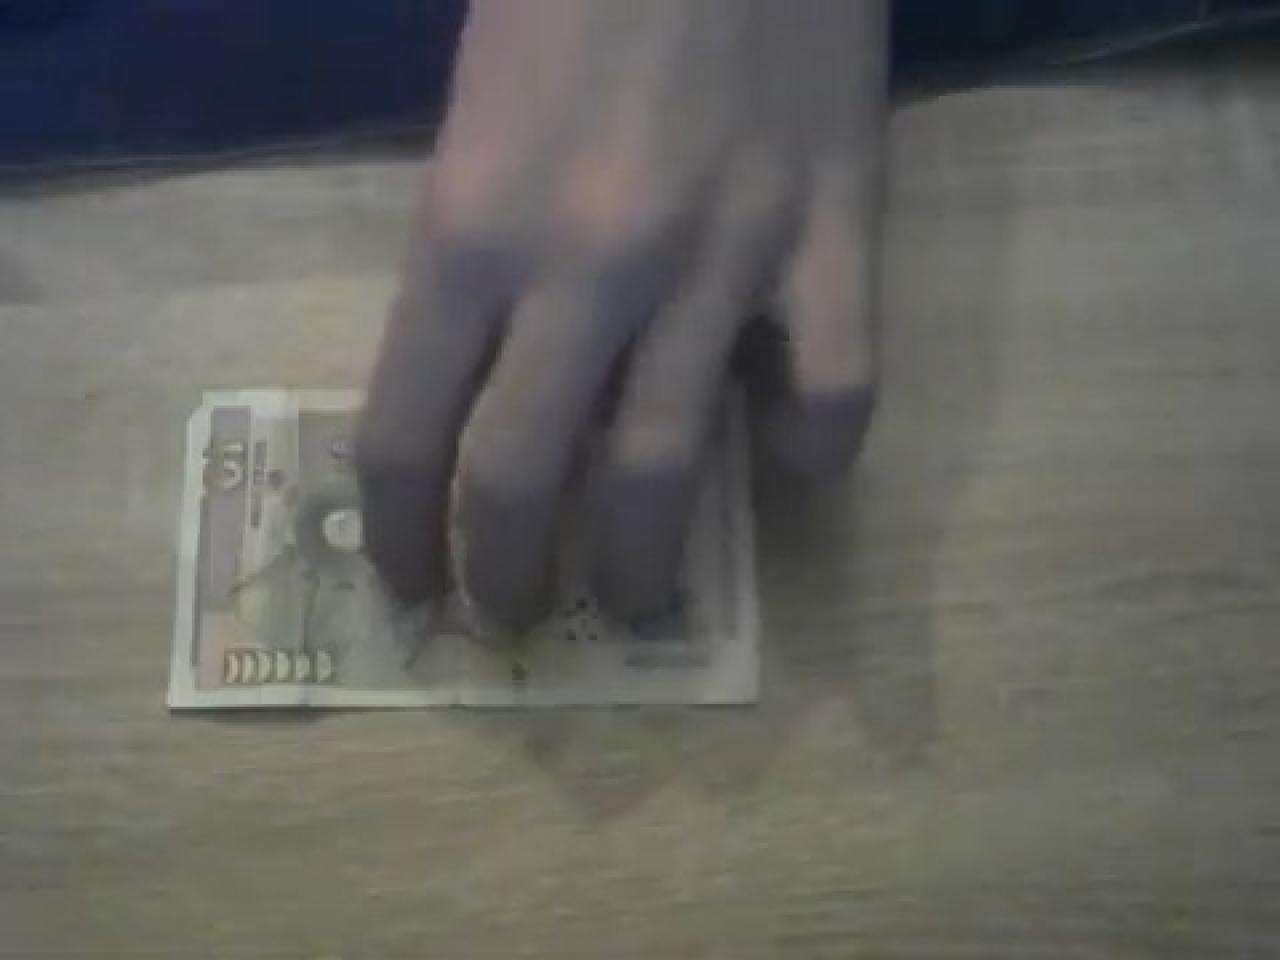10leva: (256, 509, 755, 709)
